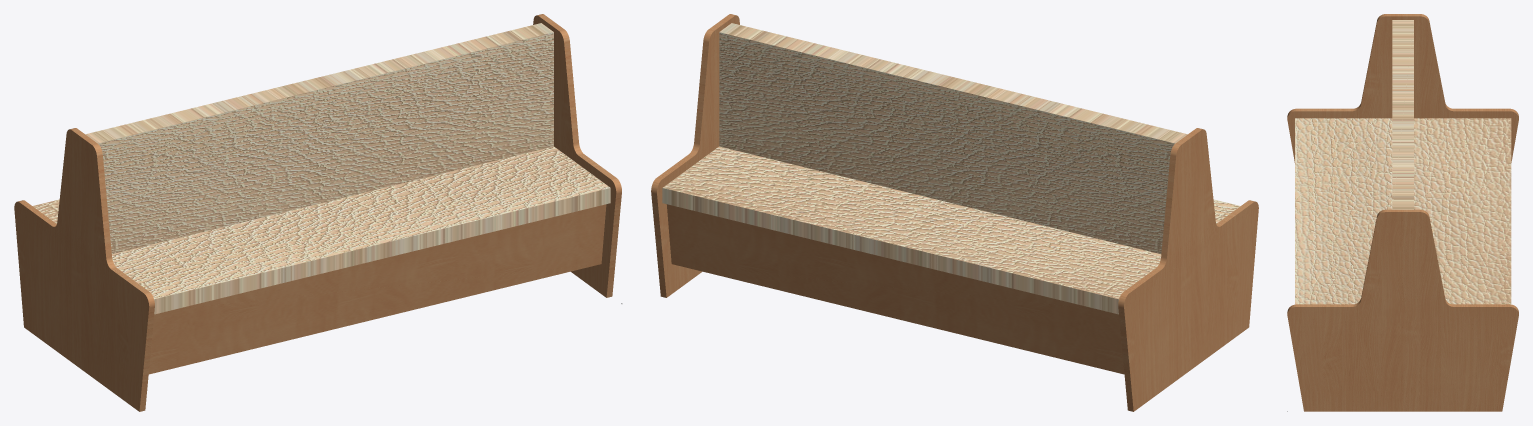
The model's file is divan_cheburashka_1_polumjagkij.glb.
3 views of the same model, side by side, from view 1: azimuth 30°, elevation 25°; view 2: azimuth 150°, elevation 25°; view 3: azimuth 270°, elevation 25° (orthographic). The views are drawn at different scales.
Visible parts, largest first — view 1: Shape_IndexedFaceSet_NON, Shape_IndexedFaceSet.003_NON, Shape_IndexedFaceSet.002, Shape_IndexedFaceSet.004, Shape_IndexedFaceSet.005; view 2: Shape_IndexedFaceSet_NON, Shape_IndexedFaceSet.003_NON, Shape_IndexedFaceSet.001, Shape_IndexedFaceSet.004, Shape_IndexedFaceSet.005; view 3: Shape_IndexedFaceSet.003_NON, Shape_IndexedFaceSet.005, Shape_IndexedFaceSet.004, Shape_IndexedFaceSet_NON.
Part boxes in pixels (left/top/right/bottom): Shape_IndexedFaceSet_NON: left=85, top=23, right=553, bottom=254; Shape_IndexedFaceSet.003_NON: left=33, top=146, right=610, bottom=314; Shape_IndexedFaceSet.002: left=148, top=204, right=606, bottom=374; Shape_IndexedFaceSet.004: left=14, top=128, right=154, bottom=411; Shape_IndexedFaceSet.005: left=533, top=14, right=621, bottom=297; Shape_IndexedFaceSet_NON: left=719, top=23, right=1187, bottom=253; Shape_IndexedFaceSet.003_NON: left=662, top=146, right=1240, bottom=314; Shape_IndexedFaceSet.001: left=666, top=204, right=1124, bottom=374; Shape_IndexedFaceSet.004: left=1118, top=128, right=1258, bottom=411; Shape_IndexedFaceSet.005: left=651, top=14, right=739, bottom=297; Shape_IndexedFaceSet.003_NON: left=1295, top=118, right=1511, bottom=304; Shape_IndexedFaceSet.005: left=1287, top=209, right=1518, bottom=411; Shape_IndexedFaceSet.004: left=1287, top=14, right=1518, bottom=162; Shape_IndexedFaceSet_NON: left=1392, top=20, right=1413, bottom=209.
Bounding box in the file's own units: 1301 × 611 × 643.
7 materials, 6 textured.
